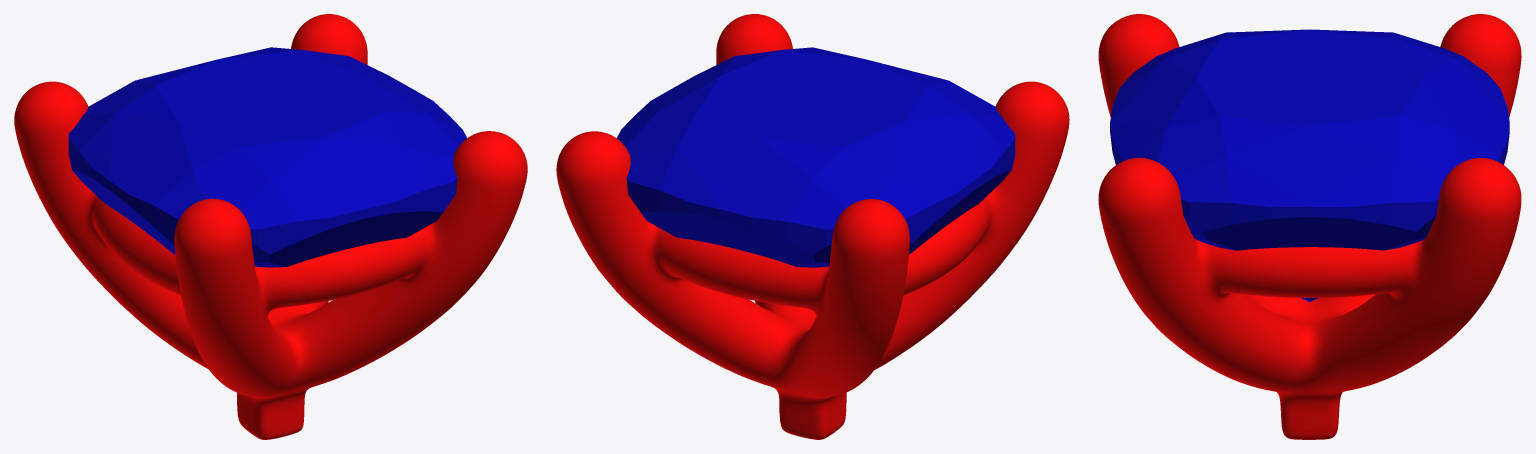
Rendered from Cushion Square.3dm.glb.
The picture shows the model from 3 angles, left to right: view 1: azimuth 30°, elevation 25°; view 2: azimuth 150°, elevation 25°; view 3: azimuth 270°, elevation 25°; orthographic projection. The views are drawn at different scales.
Visible parts, largest first — view 1: /Cushion Square.3dm, Diamond_Cushion Square; view 2: /Cushion Square.3dm, Diamond_Cushion Square; view 3: Diamond_Cushion Square, /Cushion Square.3dm.
Boxes of the visible parts, left/top/right/bottom form: /Cushion Square.3dm: left=14, top=14, right=527, bottom=439; Diamond_Cushion Square: left=68, top=47, right=466, bottom=267; /Cushion Square.3dm: left=556, top=14, right=1069, bottom=439; Diamond_Cushion Square: left=616, top=47, right=1015, bottom=267; Diamond_Cushion Square: left=1110, top=29, right=1509, bottom=301; /Cushion Square.3dm: left=1098, top=14, right=1521, bottom=439.
Size of the model in its own units: 7.42 by 6.85 by 7.43.
